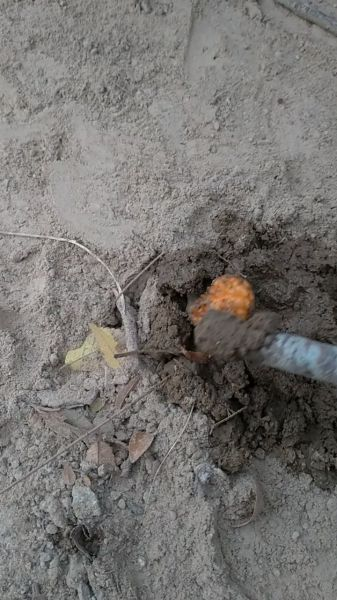eggs: (190, 274, 258, 339)
